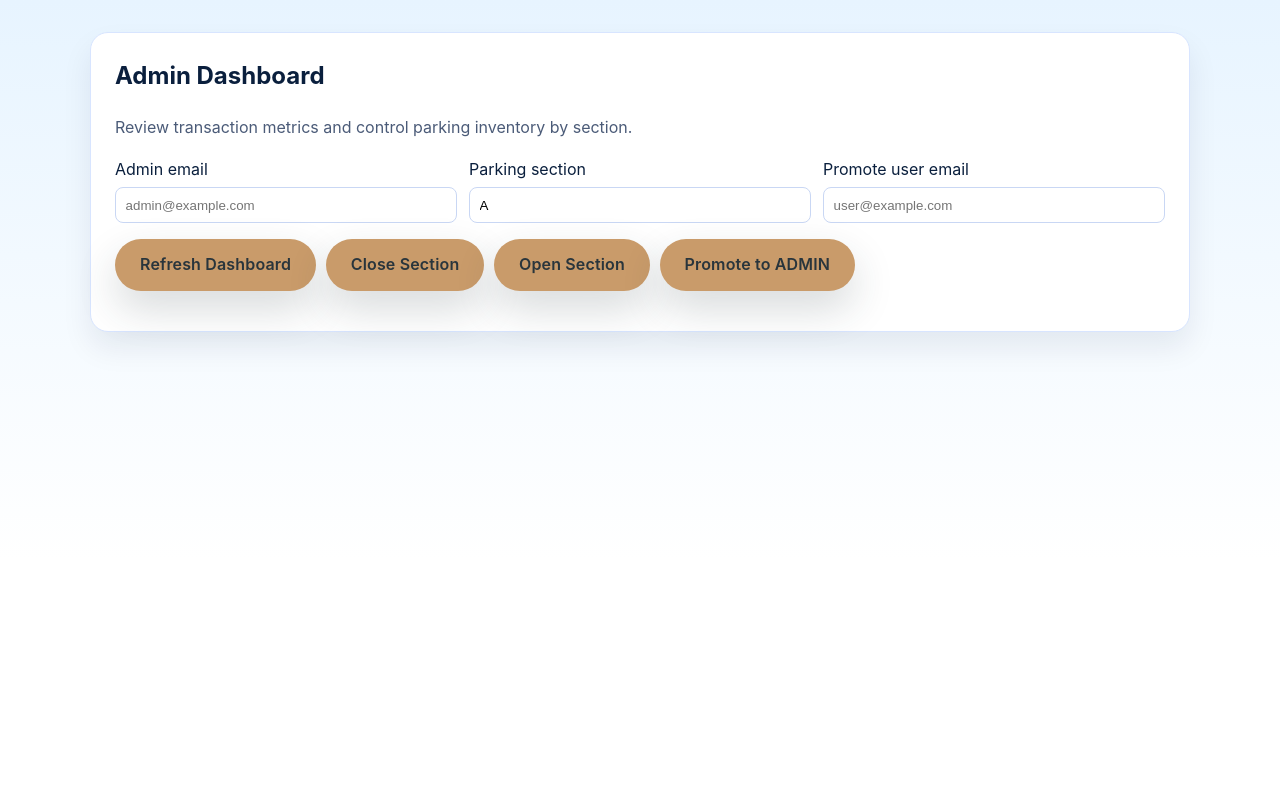
Scenario: AdminDashboardPage › loads dashboard cards and transactions
Type "admin@club.com" into the field with placeholder "admin@example.com" at (286, 205), box [115, 187, 457, 224]
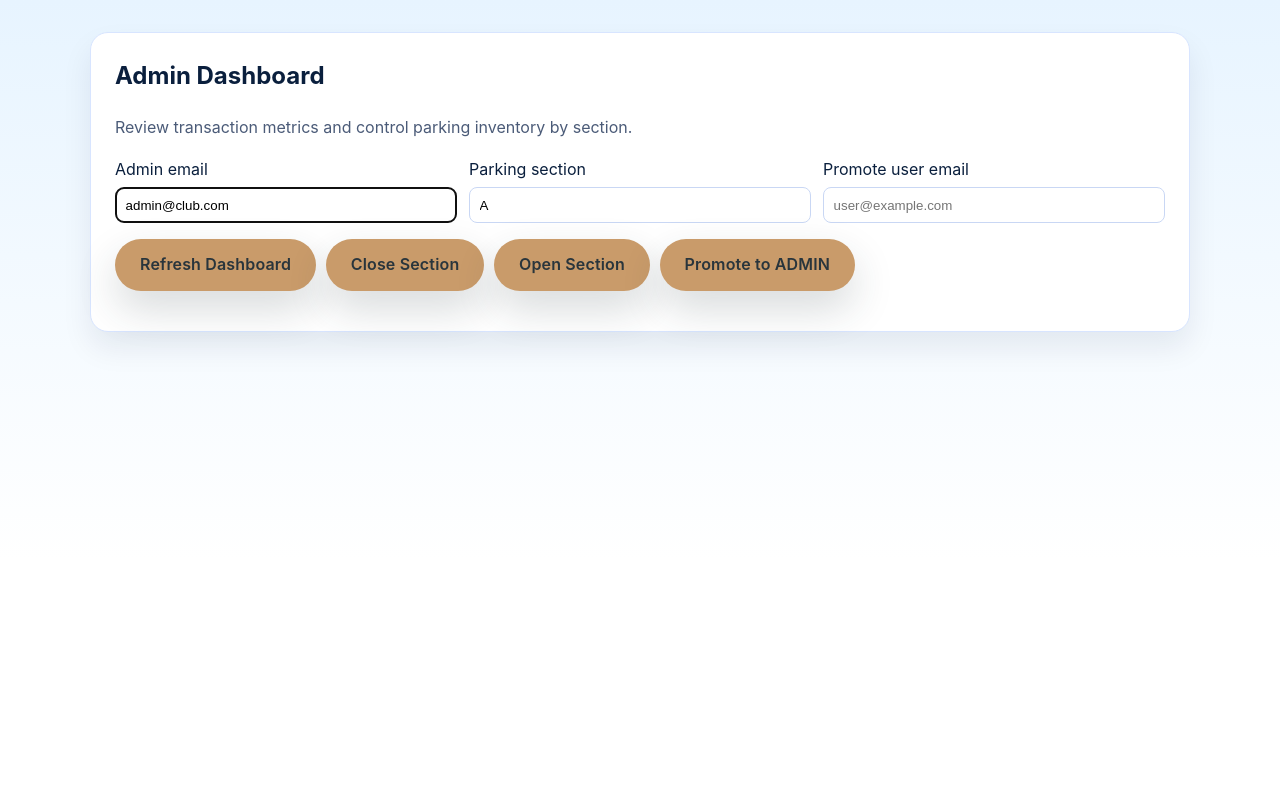
Click the button "Refresh Dashboard" at (216, 265), box [115, 240, 316, 291]
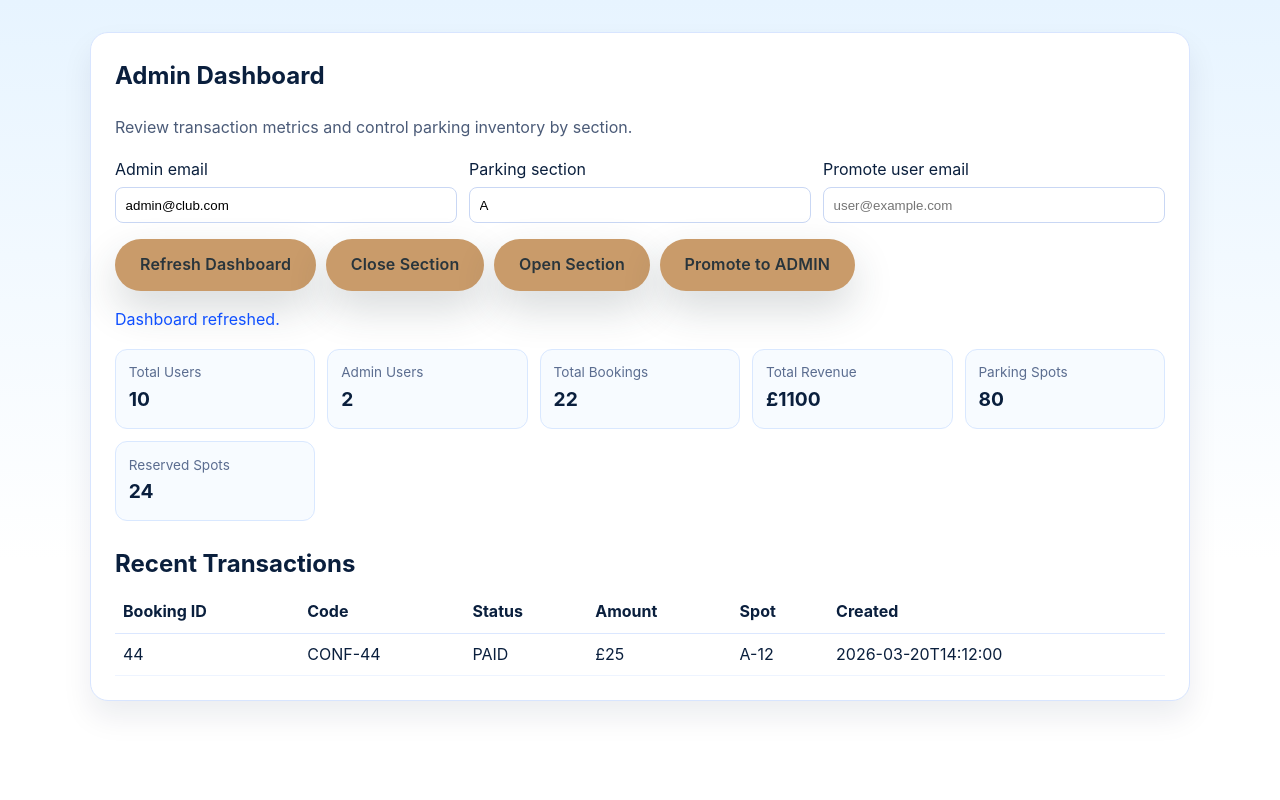
Check: the text "Dashboard refreshed." is shown, box [115, 309, 280, 329]
Check: the text "Total Users" is shown, box [129, 364, 201, 380]
Check: the heading "Recent Transactions" is shown, box [115, 549, 356, 578]
